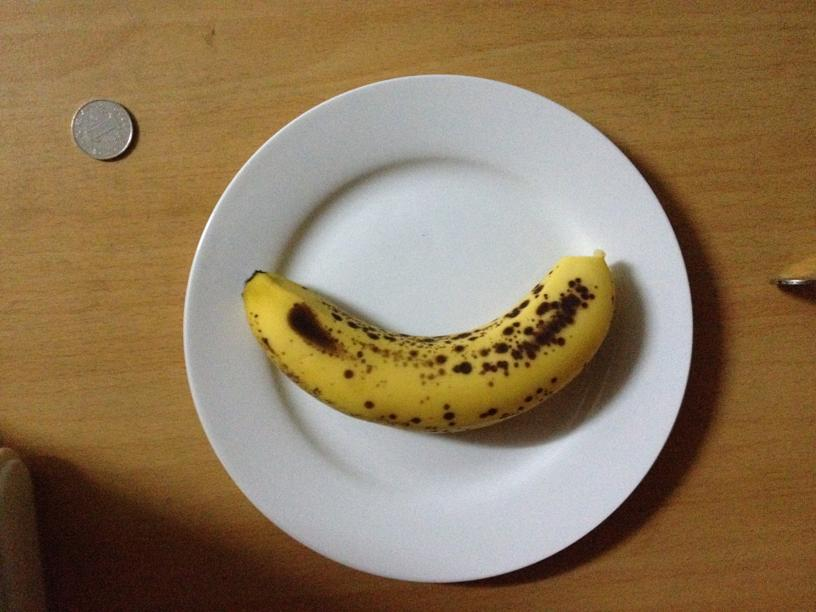banana: (243, 260, 617, 435)
coin: (70, 100, 134, 160)
